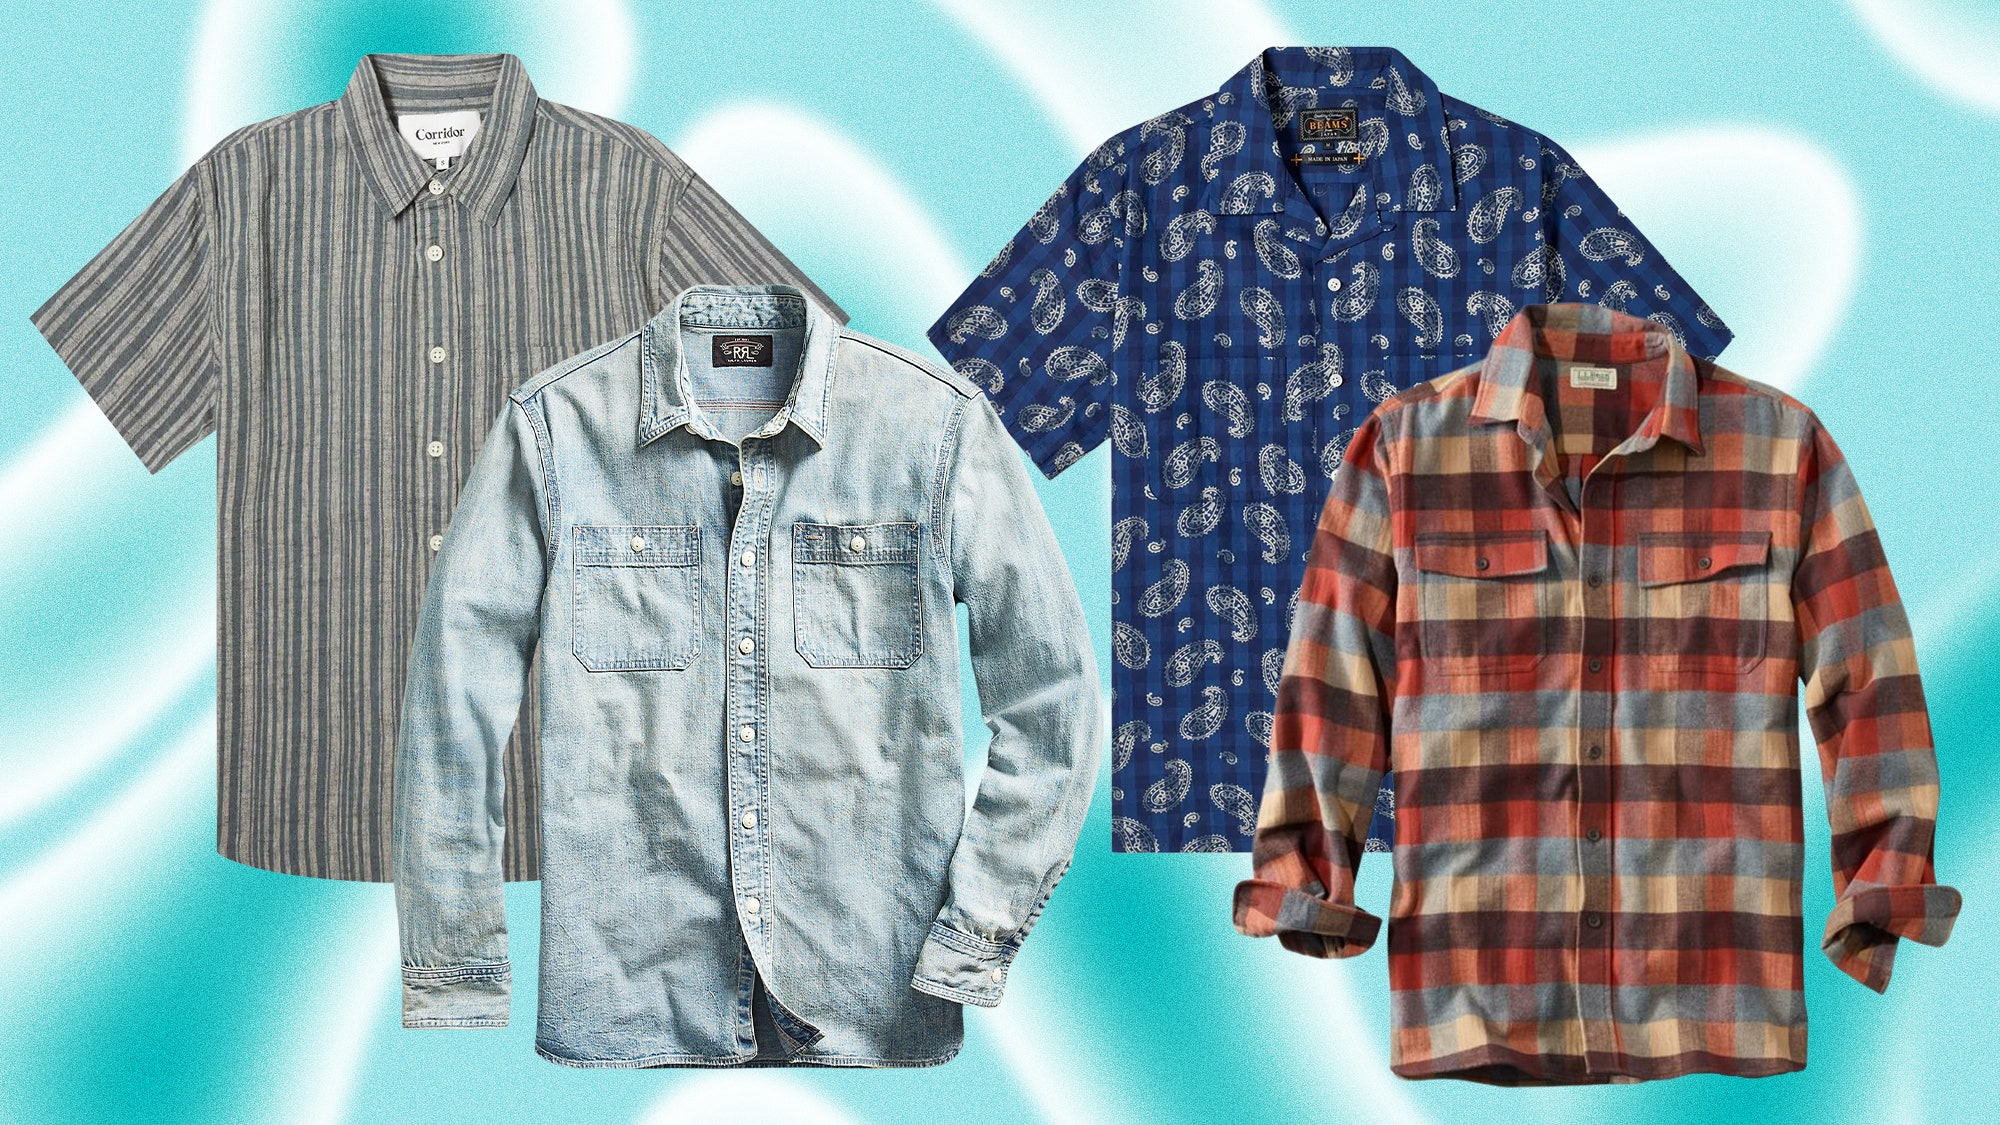long-sleeved shirt: (1245, 312, 1952, 1081), (398, 283, 1056, 1067)
short-sleeved official shirt: (30, 54, 891, 885), (929, 47, 1746, 859)
